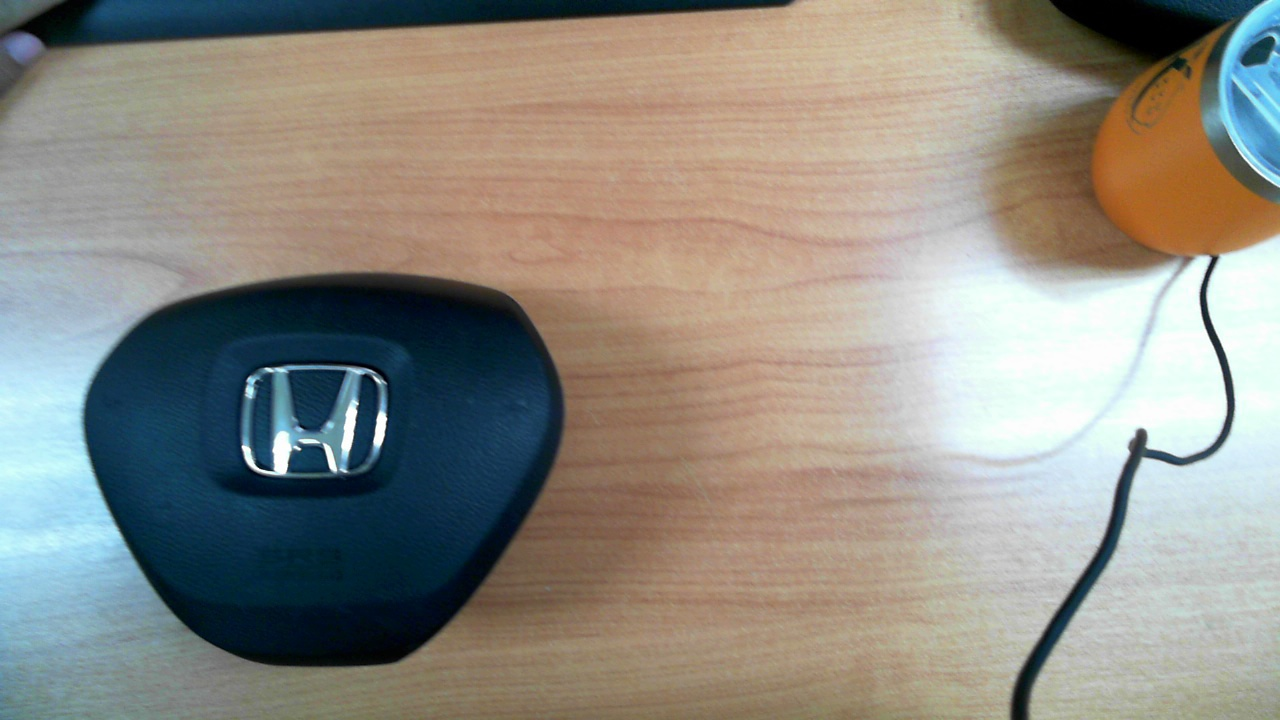Airbag: (83, 272, 565, 669)
Honda: (241, 364, 389, 478)
